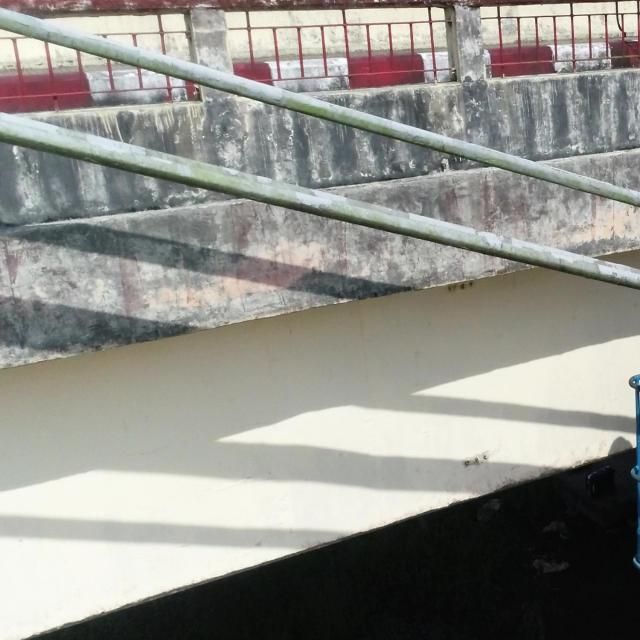crack: (442, 144, 446, 151), (500, 243, 504, 250)
